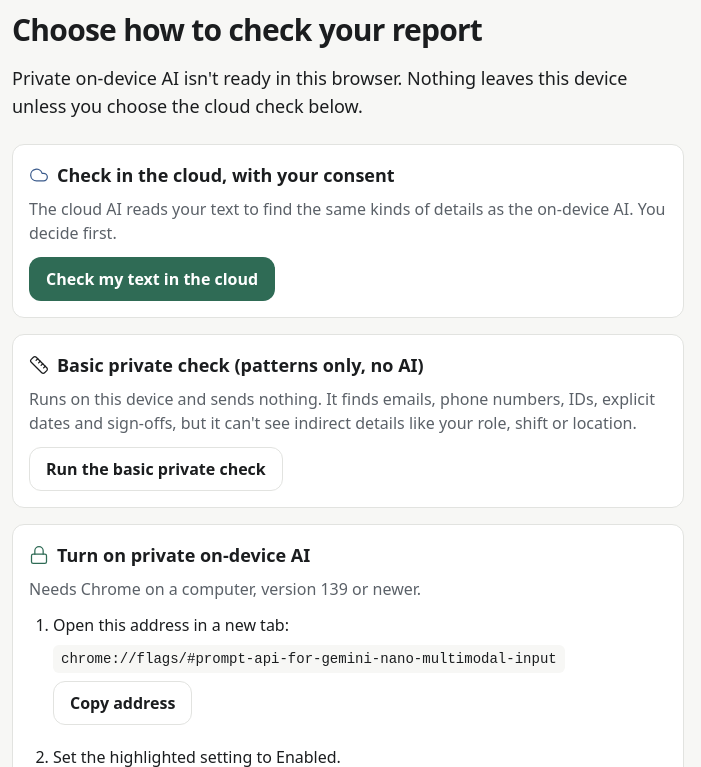
Test: EnableOnDeviceSteps copy button › asks to copy by hand when the clipboard refuses
Click the button "Copy address".
click(123, 703)  # box 53,681 -> 192,725
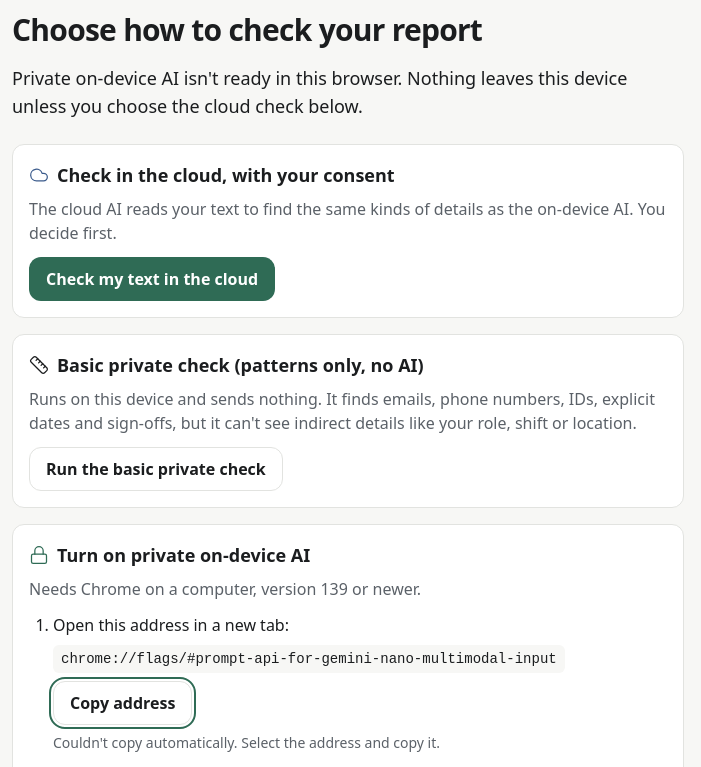
Expected: the text "chrome://flags/#prompt-api-for-gemini-nano-multimodal-input" is shown, 53,645 -> 565,673
Expected: the text "Couldn't copy automatically. Select the address and copy it." is shown, 53,733 -> 440,752
